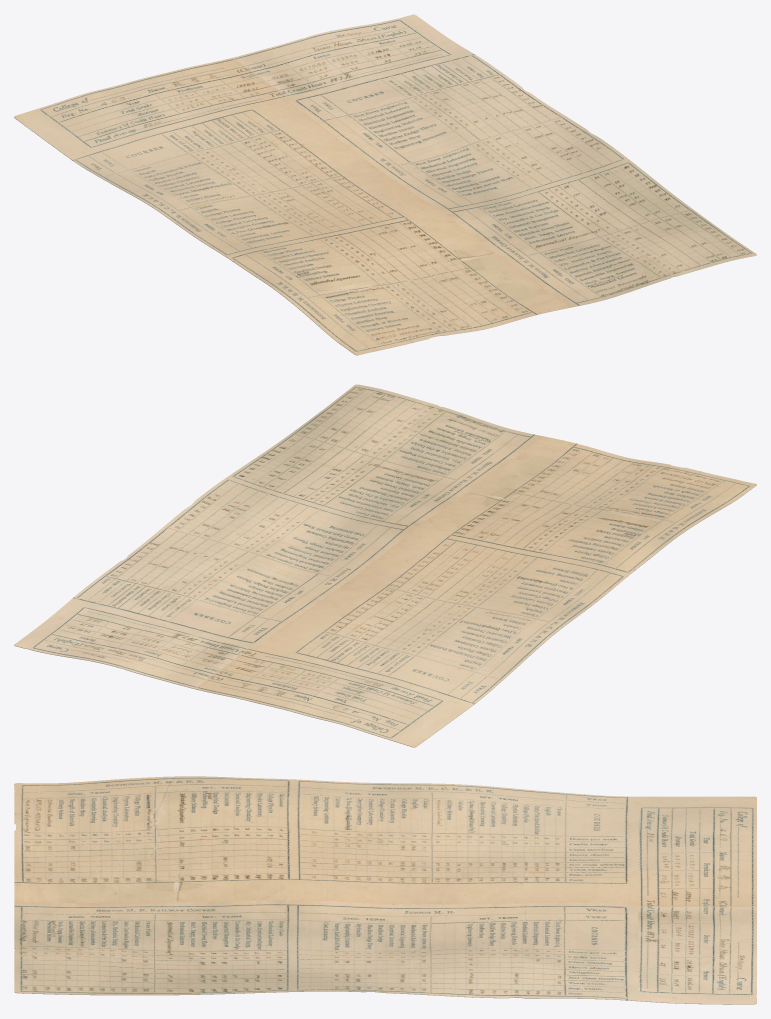
Rendered from 成绩单.obj.
3 views of the same model, one above another, from view 1: azimuth 30°, elevation 25°; view 2: azimuth 150°, elevation 25°; view 3: azimuth 270°, elevation 25° (orthographic). The views are drawn at different scales.
Visible parts, largest first — view 1: 平面.002; view 2: 平面.002; view 3: 平面.002.
Boxes of the visible parts, x1=… form: 平面.002: x1=14, y1=14, x2=756, y2=355; 平面.002: x1=14, y1=384, x2=756, y2=747; 平面.002: x1=14, y1=776, x2=756, y2=1004.
Bounding box in the file's own units: 11.94 × 0.5583 × 17.64.
